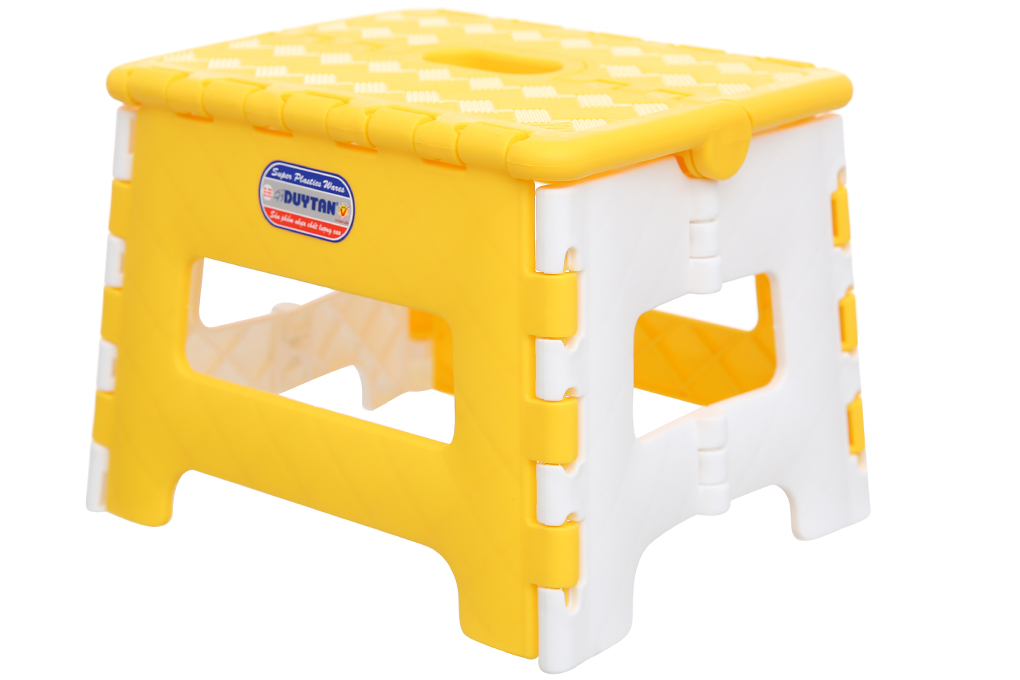seat: (94, 5, 886, 673)
